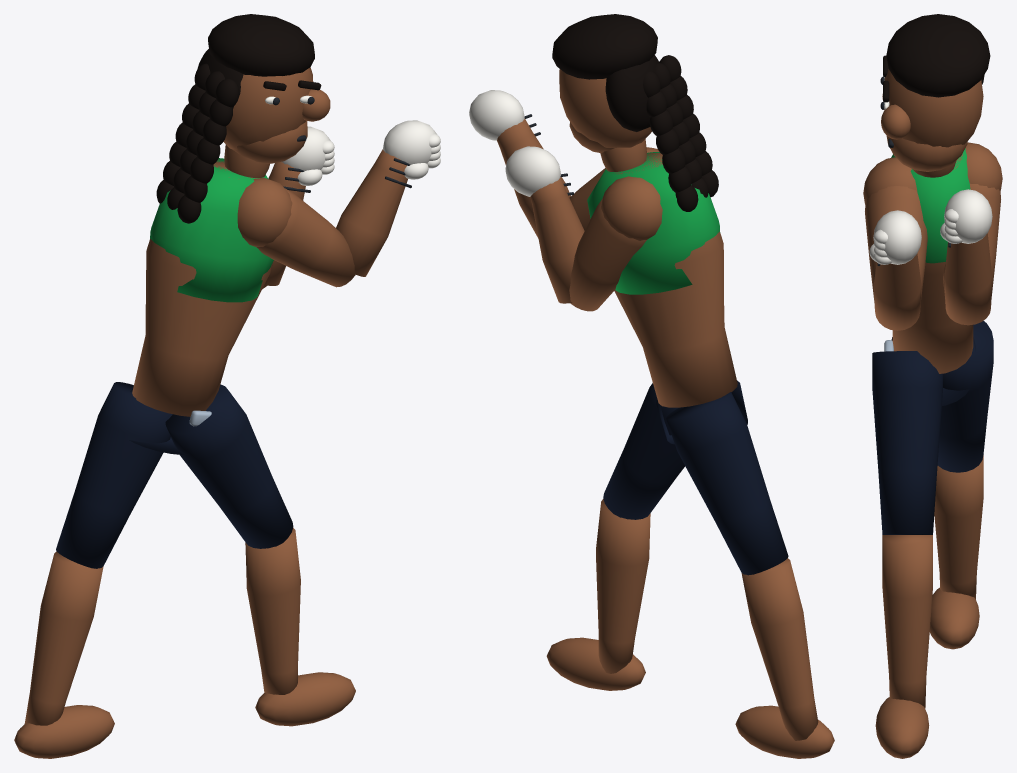
The model's file is jasmin.glb.
3 renders of one model, left to right at view 1: azimuth 30°, elevation 25°; view 2: azimuth 150°, elevation 25°; view 3: azimuth 270°, elevation 25°, orthographic. The views are drawn at different scales.
Parts seen in each view (by area): view 1: Fitted torso.010, Trouser thigh.021, Trouser thigh.020, Athletic top.001, Lower leg.021, Lower leg.020, Hair crown.009, Upper arm.020, Forearm.020, Head.010, Boot.020, Boot.021 (+6 smaller); view 2: Fitted torso.010, Trouser thigh.021, Lower leg.021, Athletic top.001, Lower leg.020, Trouser thigh.020, Hair crown.009, Upper arm.021, Forearm.021, Head.010, Boot.020, Boot.021 (+7 smaller); view 3: Trouser thigh.020, Lower leg.020, Hair crown.009, Lower leg.021, Trouser thigh.021, Fitted torso.010, Head.010, Forearm.021, Forearm.020, Athletic top.001, Boot.020, Boot.021 (+10 smaller).
Part boxes in pixels (bbox=[...]): Fitted torso.010: bbox=[132, 159, 272, 416]; Trouser thigh.021: bbox=[56, 382, 172, 568]; Trouser thigh.020: bbox=[165, 384, 293, 548]; Athletic top.001: bbox=[150, 158, 273, 302]; Lower leg.021: bbox=[24, 551, 103, 725]; Lower leg.020: bbox=[245, 528, 300, 694]; Hair crown.009: bbox=[208, 14, 314, 76]; Upper arm.020: bbox=[257, 188, 355, 287]; Forearm.020: bbox=[336, 149, 407, 276]; Head.010: bbox=[223, 67, 313, 149]; Boot.020: bbox=[255, 672, 355, 726]; Boot.021: bbox=[14, 705, 114, 758]; Fitted torso.010: bbox=[614, 153, 737, 407]; Trouser thigh.021: bbox=[666, 392, 788, 575]; Lower leg.021: bbox=[741, 558, 818, 740]; Athletic top.001: bbox=[587, 152, 720, 294]; Lower leg.020: bbox=[596, 499, 650, 673]; Trouser thigh.020: bbox=[603, 383, 684, 519]; Hair crown.009: bbox=[552, 14, 657, 79]; Upper arm.021: bbox=[569, 199, 646, 311]; Forearm.021: bbox=[530, 177, 584, 303]; Head.010: bbox=[559, 69, 651, 147]; Boot.020: bbox=[546, 637, 645, 690]; Boot.021: bbox=[735, 705, 834, 758]; Trouser thigh.020: bbox=[872, 351, 942, 534]; Lower leg.020: bbox=[882, 535, 932, 708]; Hair crown.009: bbox=[886, 14, 990, 97]; Lower leg.021: bbox=[934, 455, 983, 599]; Trouser thigh.021: bbox=[937, 321, 993, 472]; Fitted torso.010: bbox=[892, 153, 973, 373]; Head.010: bbox=[882, 69, 983, 147]; Forearm.021: bbox=[944, 233, 991, 325]; Forearm.020: bbox=[874, 253, 921, 330]; Athletic top.001: bbox=[891, 148, 970, 263]; Boot.020: bbox=[875, 697, 929, 758]; Boot.021: bbox=[929, 587, 979, 649].
Size of the model in its own units: 87.12 by 147 by 26.22.
